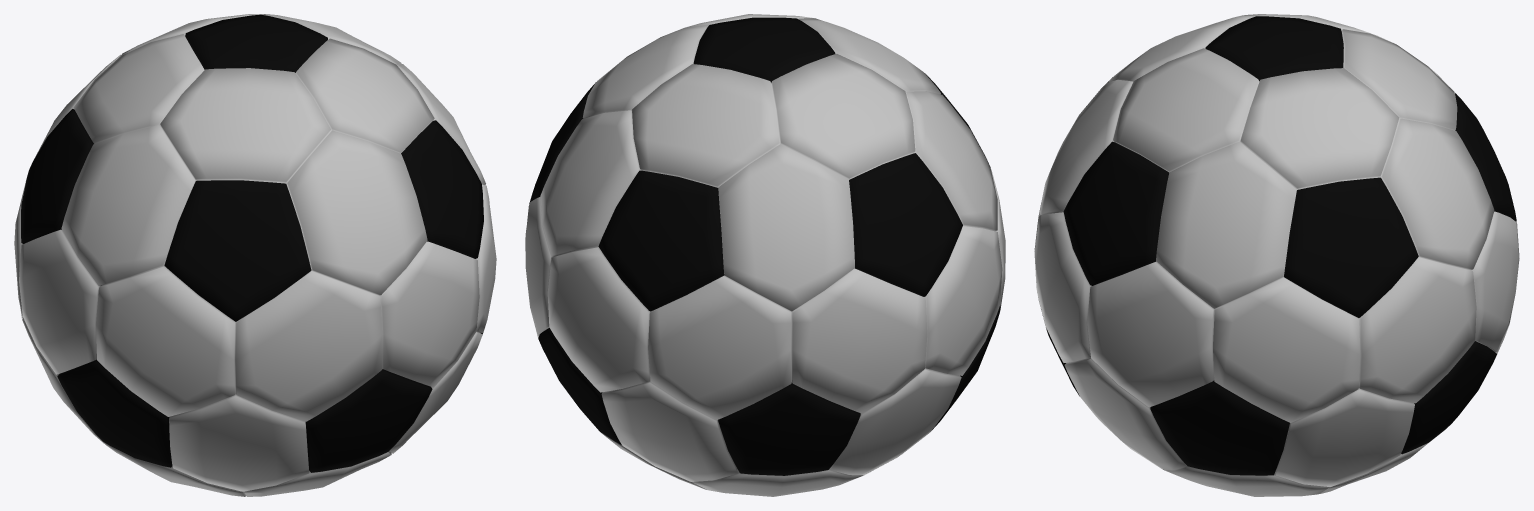
The model's file is ball.glb.
3 renders of one model, left to right at view 1: azimuth 30°, elevation 25°; view 2: azimuth 150°, elevation 25°; view 3: azimuth 270°, elevation 25°, orthographic.
Visible parts, largest first — view 1: Ball; view 2: Ball; view 3: Ball.
Part boxes in pixels (bbox=[...]): Ball: bbox=[14, 14, 496, 496]; Ball: bbox=[525, 14, 1005, 496]; Ball: bbox=[1034, 14, 1519, 496].
Size of the model in its own units: 176 by 176 by 176.
Materials: 1 (1 with a texture image).
